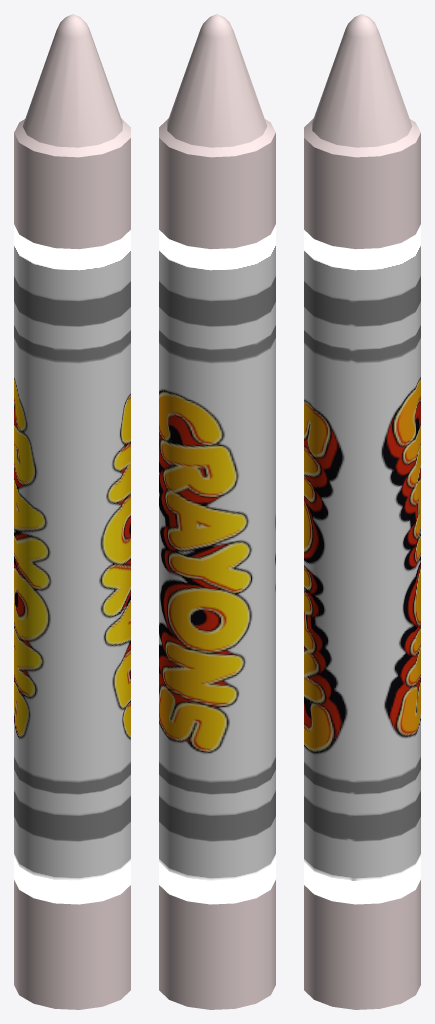
File: Crayons 1.fbx
3 views of the same model, side by side, from view 1: azimuth 90°, elevation 25°; view 2: azimuth 150°, elevation 25°; view 3: azimuth 270°, elevation 25° (orthographic).
Parts seen in each view (by area): view 1: Cylinder; view 2: Cylinder; view 3: Cylinder.
Part boxes in pixels (box(x1,y1,x2,y2)): Cylinder: box(14, 14, 130, 1009); Cylinder: box(159, 14, 275, 1009); Cylinder: box(304, 14, 420, 1009).
Bounding box in the file's own units: 67.21 × 614 × 66.85.
Materials: 2 (1 with a texture image).
